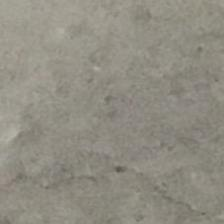Non_Crack: (11, 4, 214, 218)
